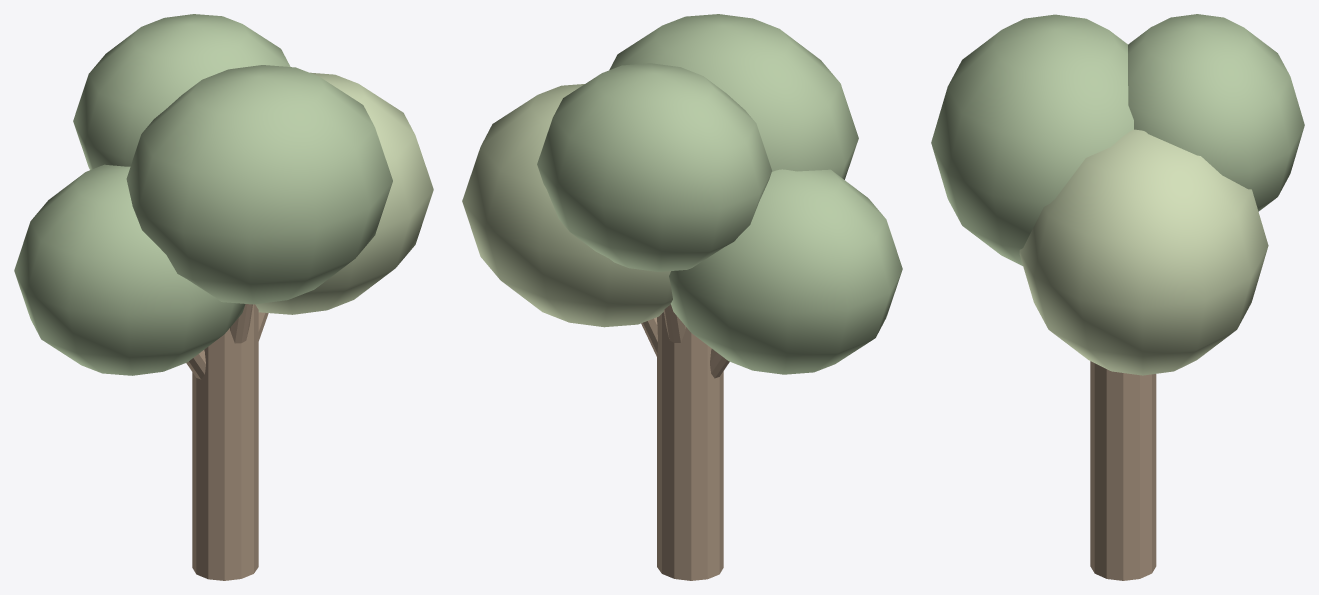
Rendered from tree.glb.
3 renders of one model, left to right at view 1: azimuth 30°, elevation 25°; view 2: azimuth 150°, elevation 25°; view 3: azimuth 270°, elevation 25°, orthographic. The views are drawn at different scales.
Visible parts, largest first — view 1: Canopy.002, Canopy, Trunk, Canopy.003, Canopy.001, Branch.002; view 2: Canopy.003, Canopy, Canopy.001, Canopy.002, Trunk; view 3: Canopy.001, Canopy.002, Canopy.003, Trunk.
Part boxes in pixels (x1,y1,x2,y2): Canopy.002: [126, 65, 392, 304]; Canopy: [14, 164, 245, 375]; Trunk: [192, 304, 258, 580]; Canopy.003: [73, 14, 290, 169]; Canopy.001: [255, 72, 433, 314]; Branch.002: [230, 304, 252, 343]; Canopy.003: [537, 63, 771, 271]; Canopy: [669, 169, 902, 374]; Canopy.001: [462, 84, 672, 327]; Canopy.002: [609, 14, 858, 179]; Trunk: [657, 312, 723, 580]; Canopy.001: [1019, 129, 1268, 375]; Canopy.002: [931, 14, 1133, 265]; Canopy.003: [1128, 14, 1304, 211]; Trunk: [1090, 361, 1156, 580].
Bounding box in the file's own units: 2.49 × 3.05 × 1.92.
